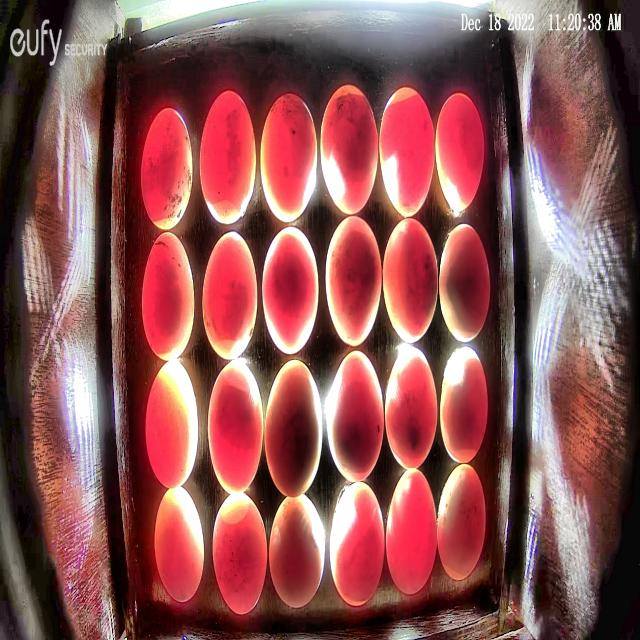FE: (264, 358, 322, 496), (320, 81, 378, 216), (259, 91, 318, 222), (379, 85, 436, 220), (200, 88, 256, 225), (208, 360, 264, 496), (325, 215, 382, 348), (262, 226, 320, 356), (328, 351, 385, 483), (202, 228, 258, 362), (382, 218, 438, 345), (329, 482, 385, 606), (145, 360, 199, 488), (212, 492, 268, 615), (142, 233, 194, 362), (386, 466, 438, 594), (140, 108, 193, 233), (268, 494, 325, 610), (386, 347, 438, 469), (154, 484, 206, 602), (438, 222, 489, 342), (436, 92, 485, 212), (439, 344, 487, 465), (438, 464, 487, 582)
